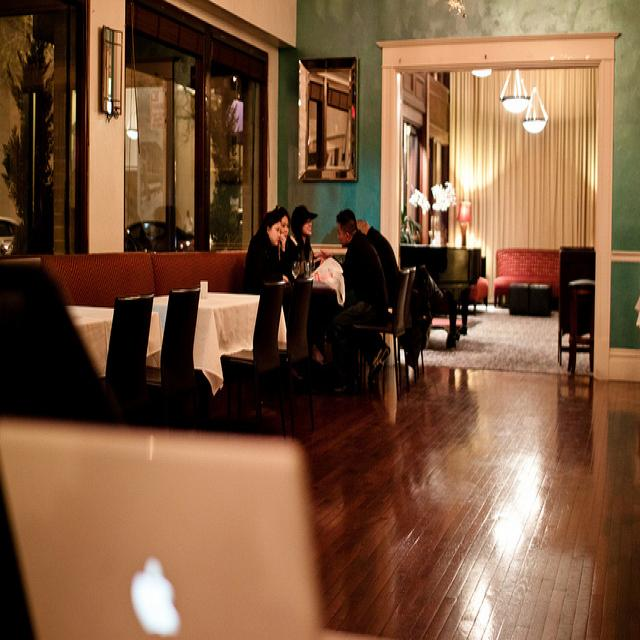chair: (221, 282, 286, 438), (145, 288, 202, 432), (353, 271, 410, 401), (282, 277, 319, 440), (102, 296, 155, 393), (558, 244, 597, 365), (405, 263, 421, 331)
dining table: (69, 287, 264, 369), (310, 258, 345, 304), (147, 289, 169, 349)
